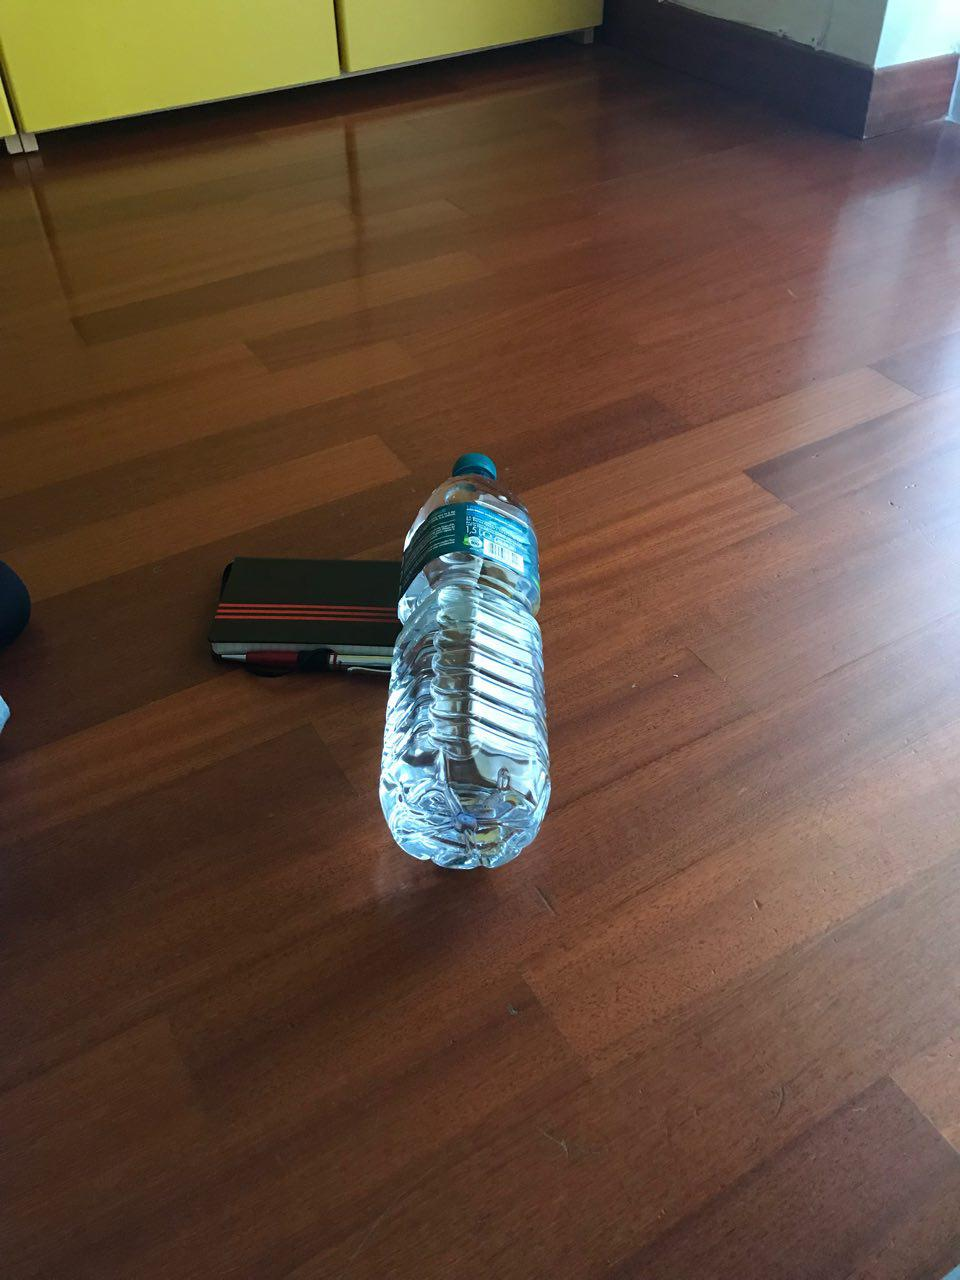san_bernardo: (374, 450, 553, 873)
